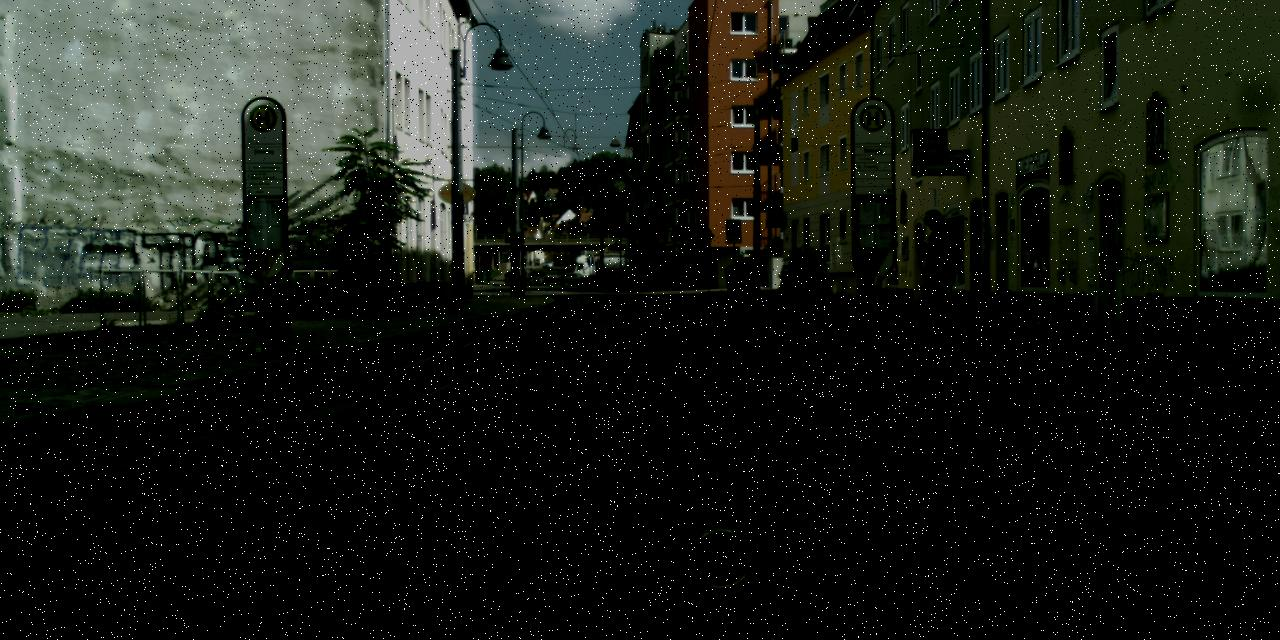ped: (912, 209, 971, 353), (486, 270, 490, 280)
